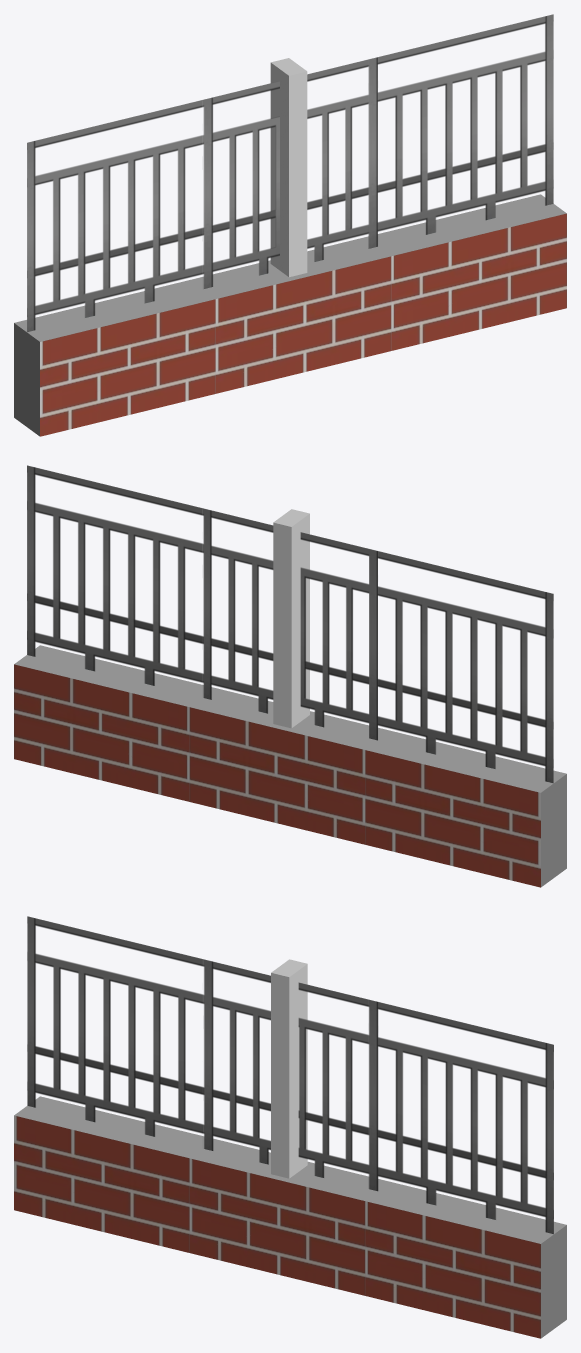
The picture shows the model from 3 angles, top to bottom: view 1: azimuth 30°, elevation 25°; view 2: azimuth 150°, elevation 25°; view 3: azimuth 330°, elevation 25°; orthographic projection.
Visible parts, largest first — view 1: Lo-金属栅栏围墙_01; view 2: Lo-金属栅栏围墙_01; view 3: Lo-金属栅栏围墙_01.
Boxes of the visible parts, left/top/right/bottom form: Lo-金属栅栏围墙_01: left=14, top=14, right=566, bottom=436; Lo-金属栅栏围墙_01: left=14, top=465, right=566, bottom=887; Lo-金属栅栏围墙_01: left=14, top=916, right=566, bottom=1338.
Bounding box in the file's own units: 3.81 × 2.04 × 0.3272.
Materials: 2 (2 with a texture image).
